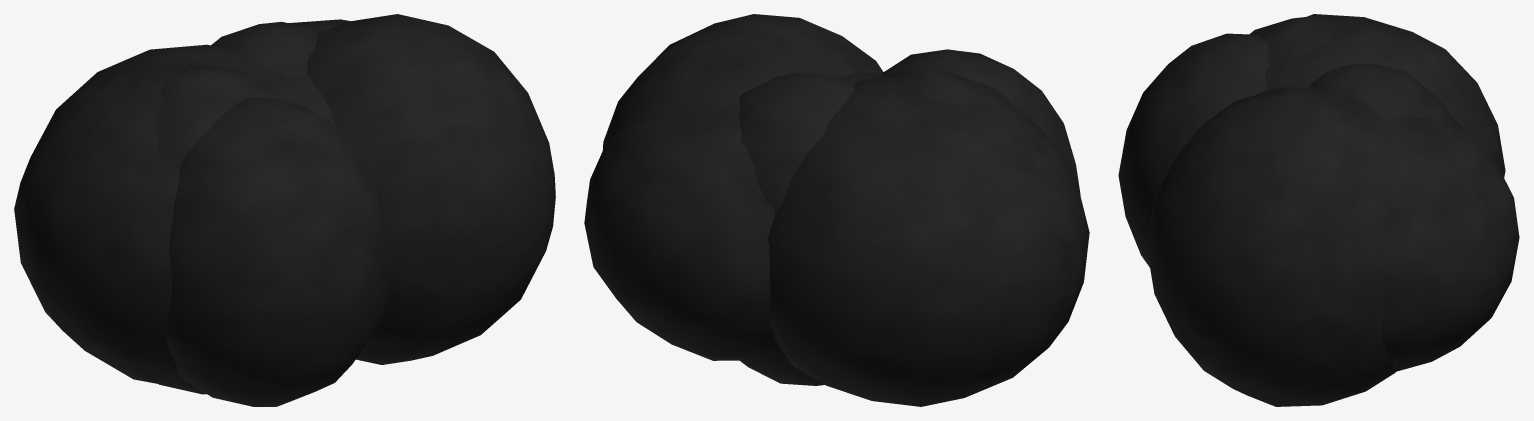
The model's file is pv_hromada_uhli.glb.
3 renders of one model, left to right at view 1: azimuth 30°, elevation 25°; view 2: azimuth 150°, elevation 25°; view 3: azimuth 270°, elevation 25°, orthographic. The views are drawn at different scales.
Visible parts, largest first — view 1: dum; view 2: dum; view 3: dum.
Part boxes in pixels (<box>): dum: <box>14,14,555,406</box>; dum: <box>584,14,1089,406</box>; dum: <box>1118,14,1519,406</box>.
Size of the model in its own units: 11.64 by 7.56 by 9.21.
Materials: 1 (1 with a texture image).
